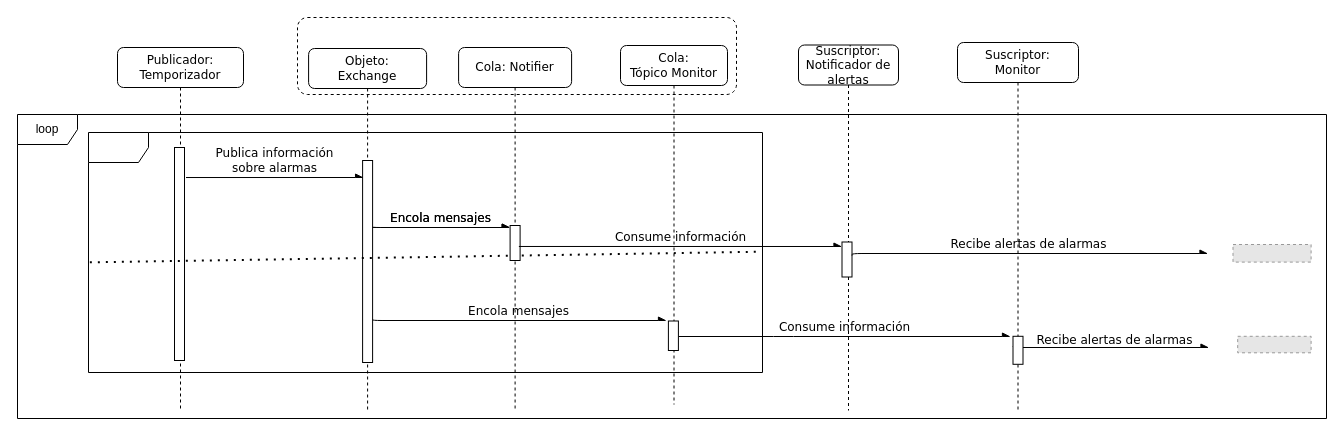
Some shapes in this 1344 by 436 pixel diagram are drawn without their labels. Grey dashed boxes stand in for pictures. Each missing label, with the centre of its shape:
Distribuidor de mensajes: pixel 516 55
par: pixel 425 252
